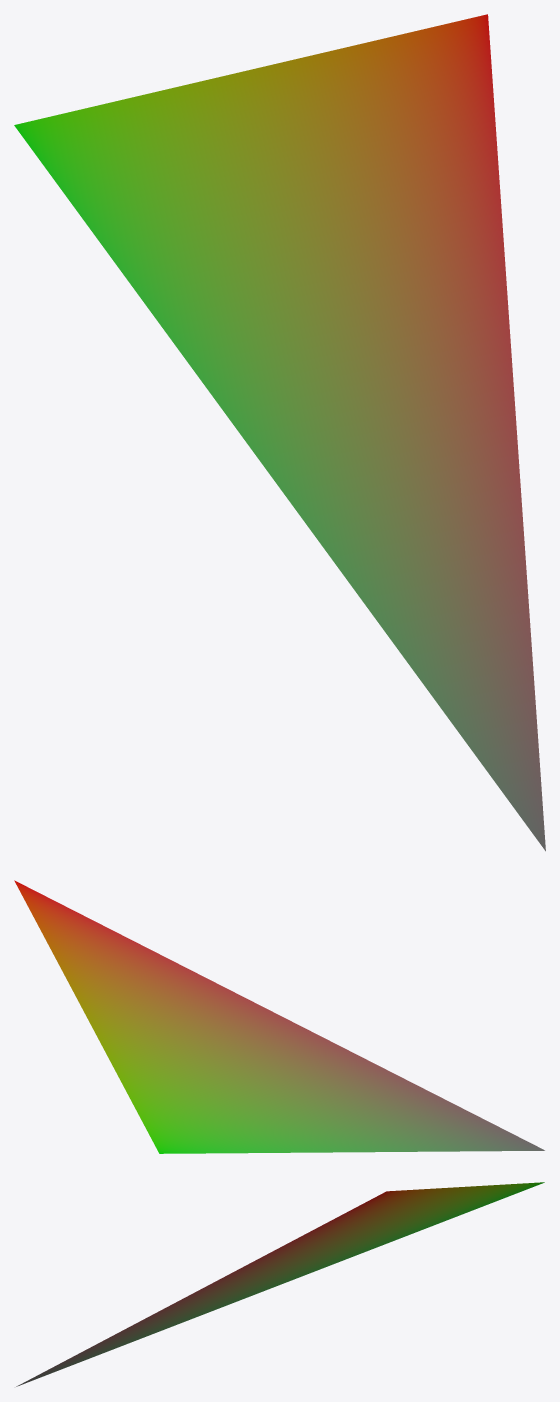
The model's file is start_border_patch_16.obj.
3 renders of one model, top to bottom at view 1: azimuth 30°, elevation 25°; view 2: azimuth 150°, elevation 25°; view 3: azimuth 270°, elevation 25°, orthographic. The views are drawn at different scales.
Bounding box in the file's own units: 0.4595 × 0.691 × 1.22.
